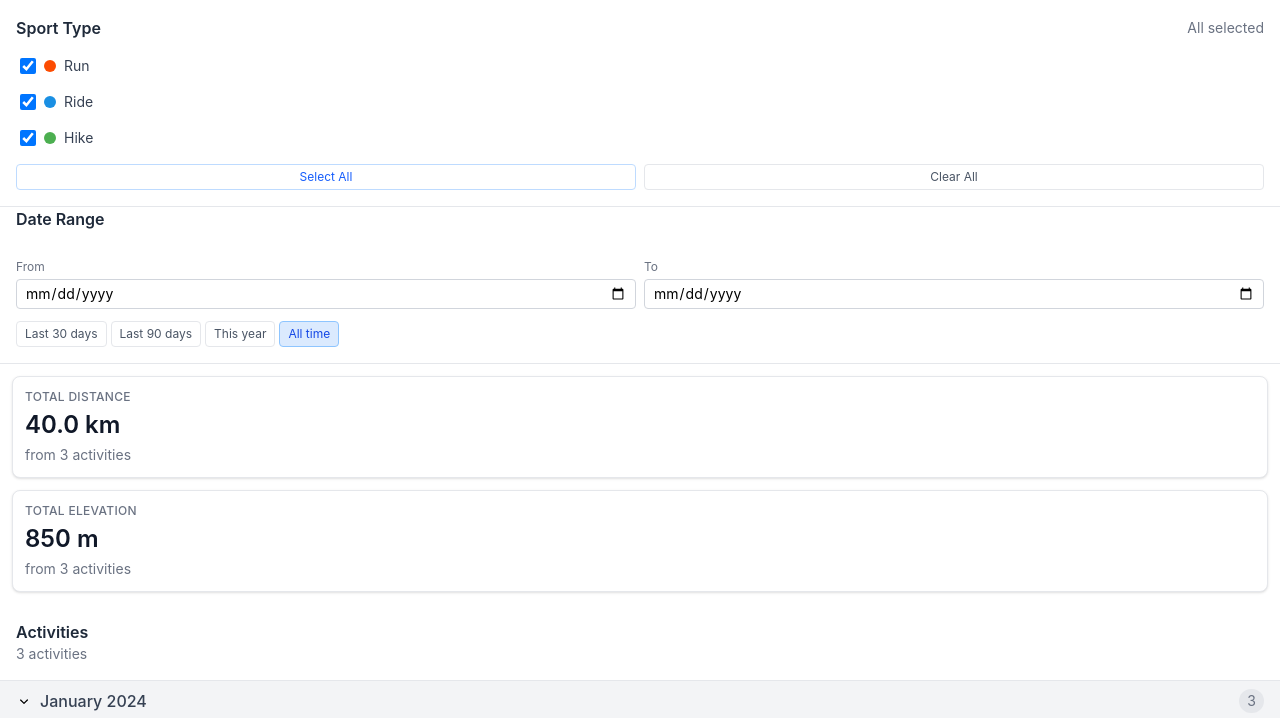
Test: SidebarPanel › filters activities by date range
Set date range to only include Jan 14-15
Type "2024-01-14" into the date field labelled "From".
click(326, 294); type("2024-01-14")  # box [16,279,636,309]
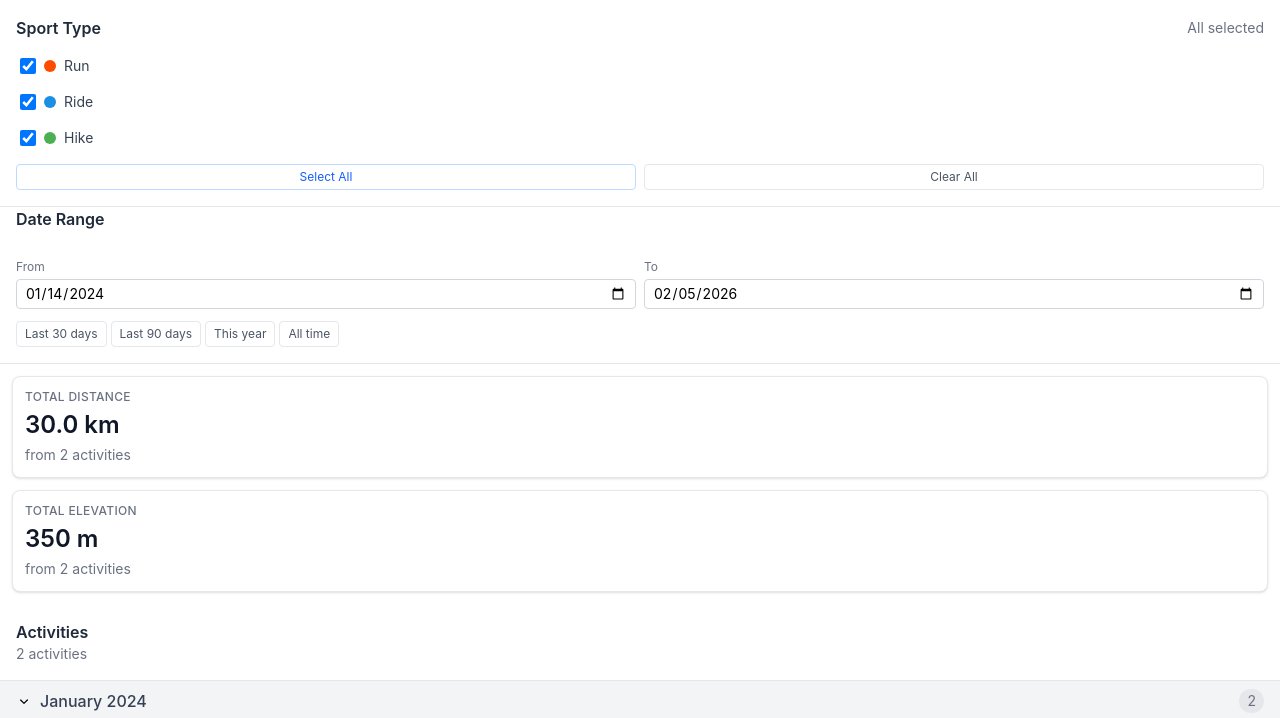
Type "2024-01-15" into the date field labelled "To".
click(954, 294); type("2024-01-15")  # box [644,279,1264,309]
(page scrolled)
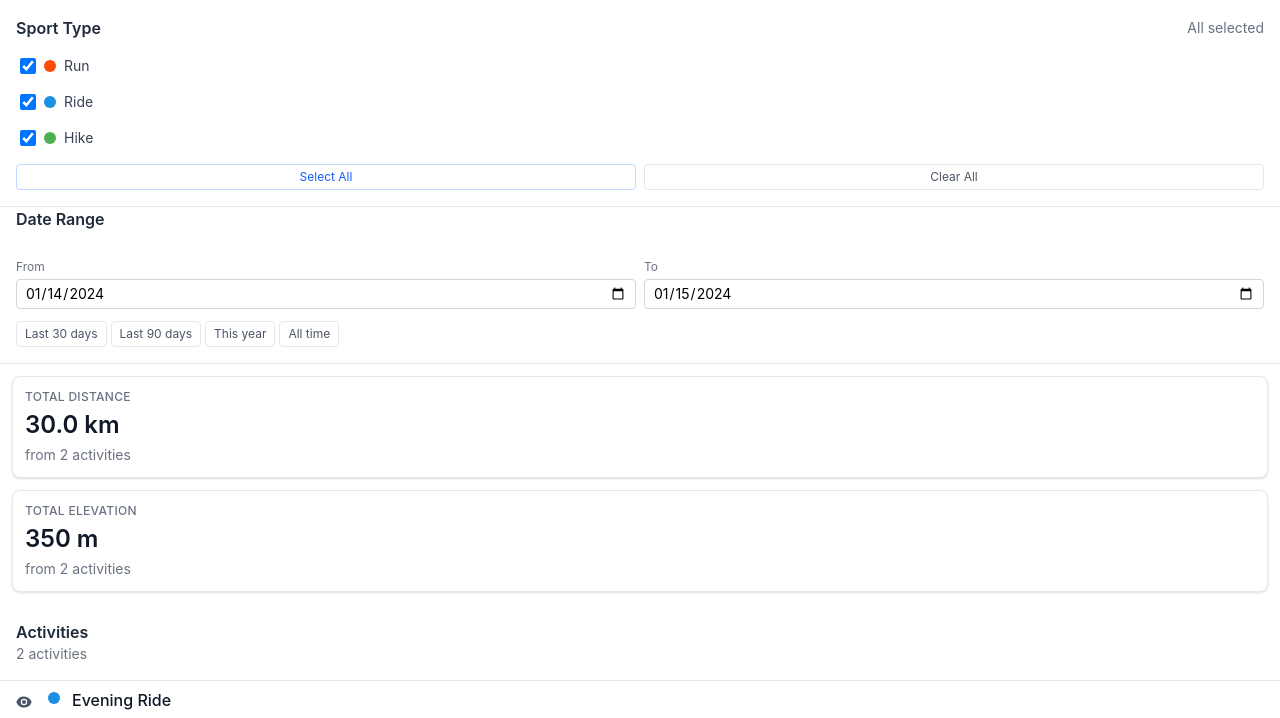
Now the text "2 activities" is shown, box [16,645,87,662]
Now the heading "Evening Ride" is shown, box [72,690,171,710]
